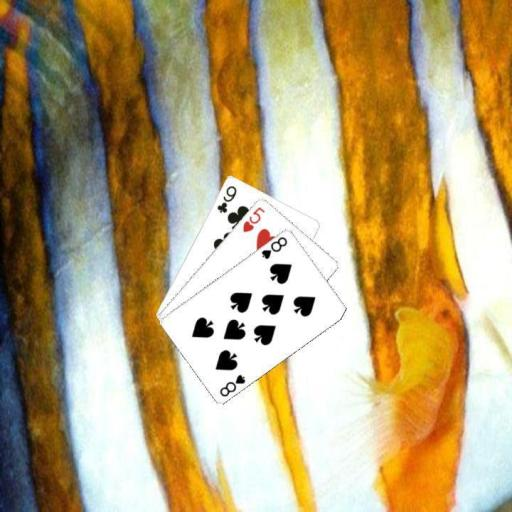card-corner: (216, 371, 247, 398), (258, 234, 289, 260), (214, 182, 238, 215), (240, 204, 266, 234)
